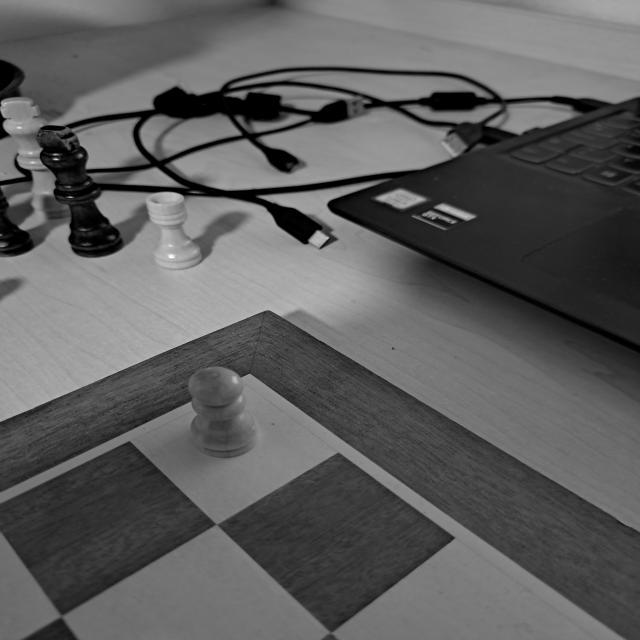chess-table-corners: (202, 358, 290, 411)
